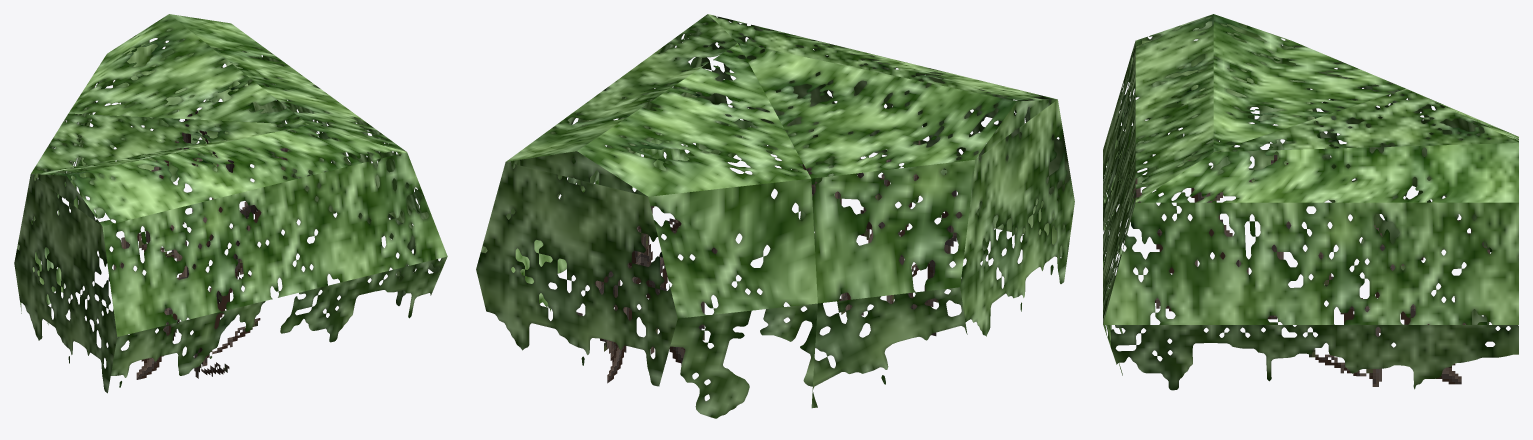
The model's file is bush_square_corner_filled_roots_summer.fbx.
3 views of the same model, side by side, from view 1: azimuth 30°, elevation 25°; view 2: azimuth 150°, elevation 25°; view 3: azimuth 270°, elevation 25° (orthographic). The views are drawn at different scales.
Parts seen in each view (by area): view 1: bush_square_corner_filled_roots_summer; view 2: bush_square_corner_filled_roots_summer; view 3: bush_square_corner_filled_roots_summer.
Boxes of the visible parts, x1,y1,x2,y2 form: bush_square_corner_filled_roots_summer: (14,14,447,393); bush_square_corner_filled_roots_summer: (476,14,1074,418); bush_square_corner_filled_roots_summer: (1103,14,1518,390).
Bounding box in the file's own units: 136 × 87.65 × 135.
Materials: 2 (2 with a texture image).
